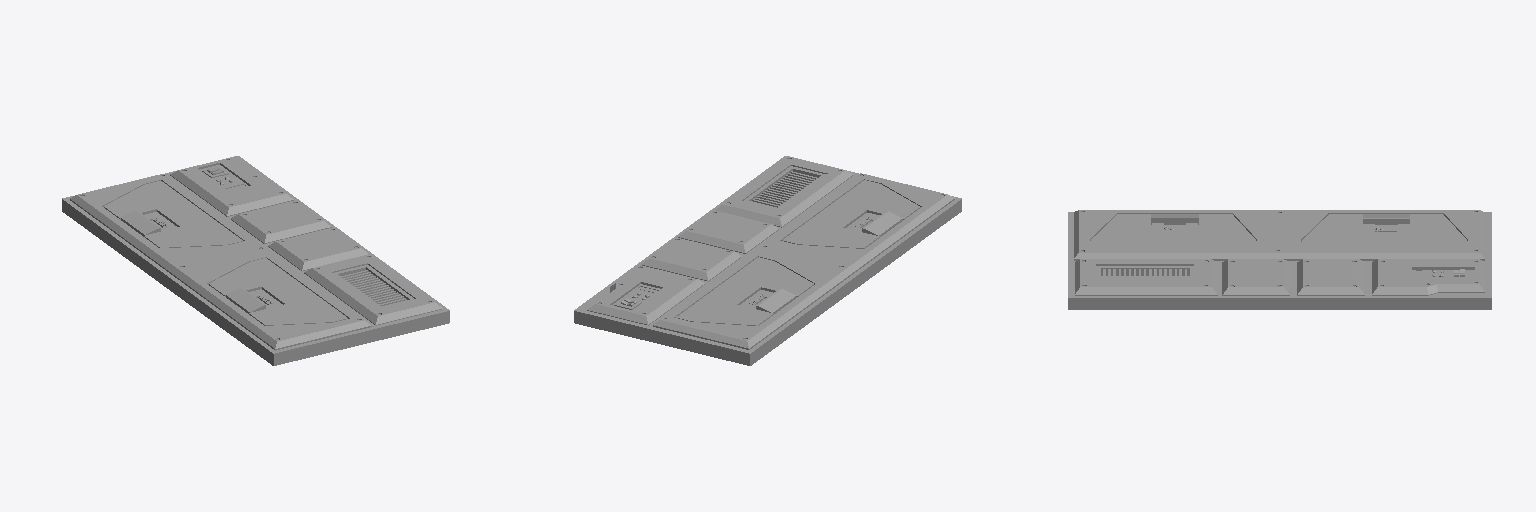
Rendered from s2_bottom_panel_2.obj.
3 views of the same model, side by side, from view 1: azimuth 30°, elevation 25°; view 2: azimuth 150°, elevation 25°; view 3: azimuth 270°, elevation 25° (orthographic).
Parts seen in each view (by area): view 1: mesh_0, mesh_1; view 2: mesh_0, mesh_1; view 3: mesh_0, mesh_1.
Part boxes in pixels (bbox=[...]): mesh_0: bbox=[62, 156, 449, 365]; mesh_1: bbox=[80, 159, 431, 339]; mesh_0: bbox=[574, 156, 961, 365]; mesh_1: bbox=[598, 158, 944, 339]; mesh_0: bbox=[1068, 210, 1491, 309]; mesh_1: bbox=[1081, 211, 1477, 286].
Bounding box in the file's own units: 18.38 × 2.23 × 38.16.